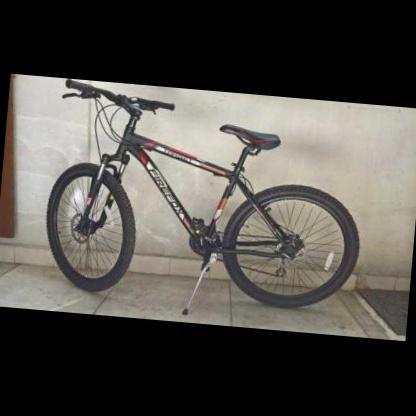Bicycle: (31, 87, 372, 319)
